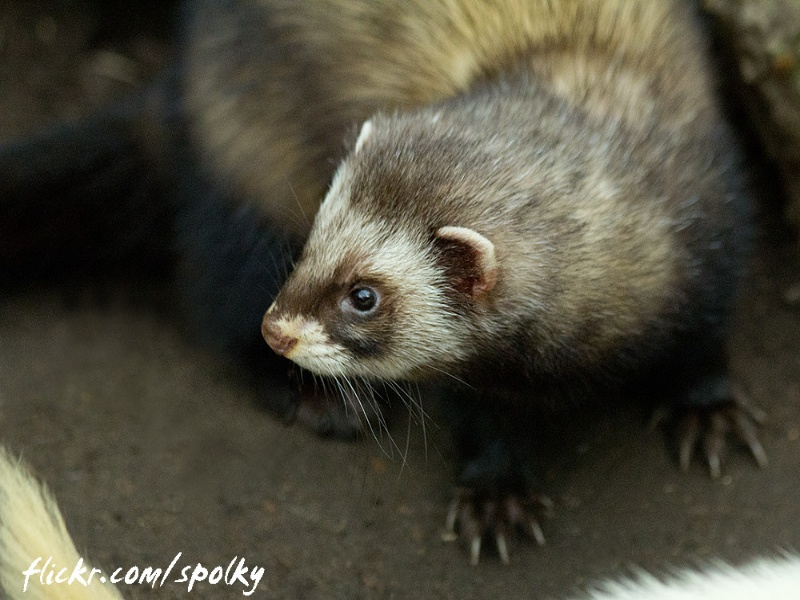minkish: (1, 1, 783, 569)
